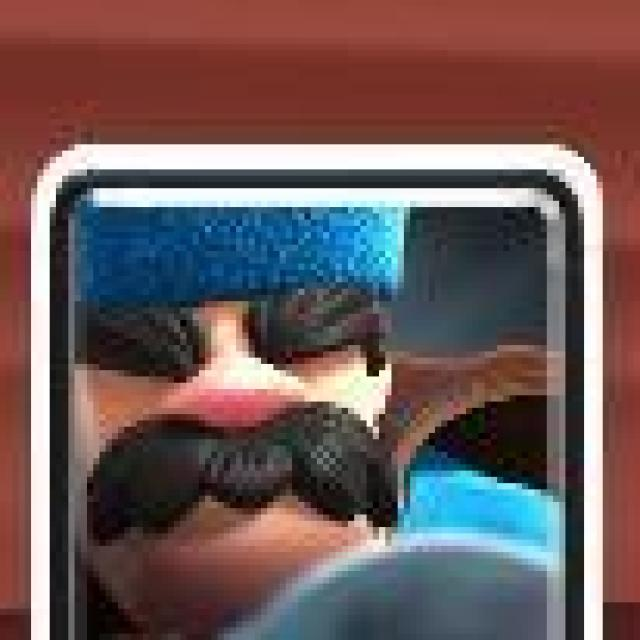Hunter: (32, 144, 604, 640)
